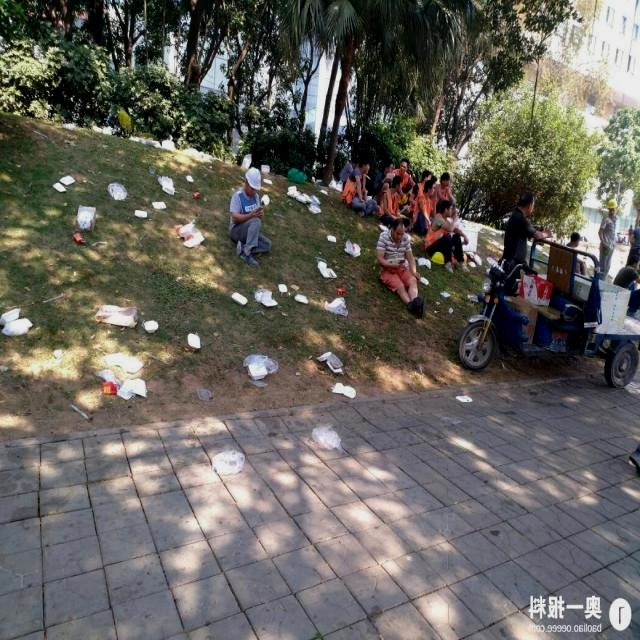Con_Casco: (242, 167, 263, 196)
